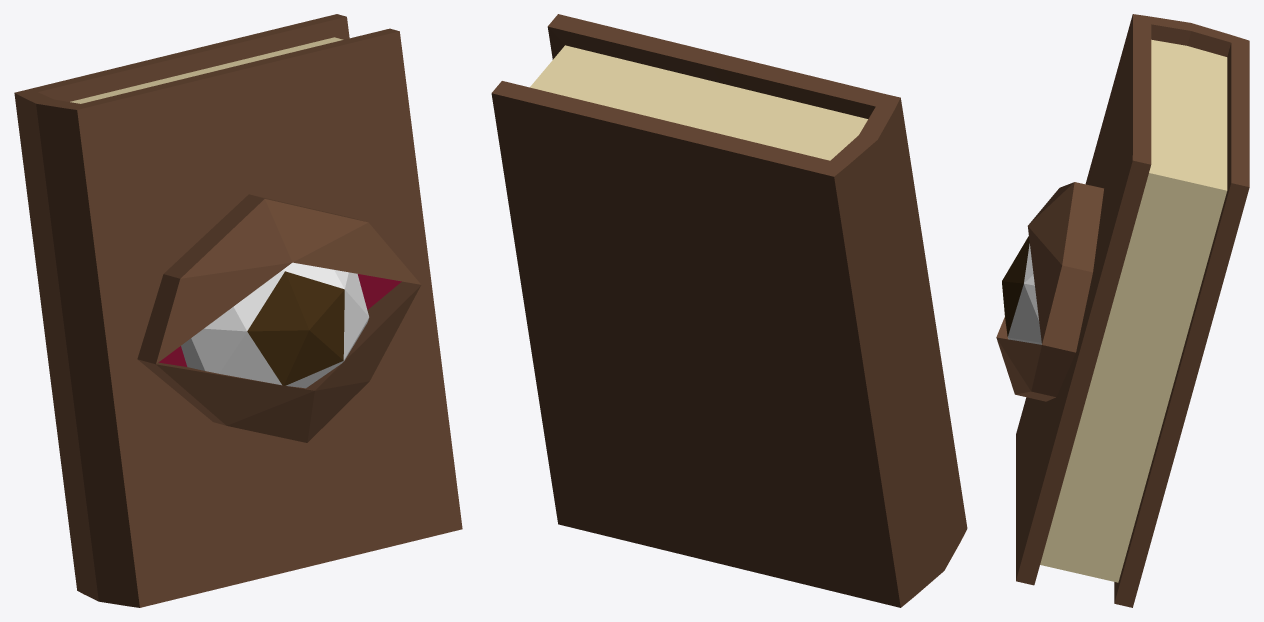
File: BookOfTheDed.fbx
The picture shows the model from 3 angles, left to right: view 1: azimuth 30°, elevation 25°; view 2: azimuth 150°, elevation 25°; view 3: azimuth 270°, elevation 25°; orthographic projection. The views are drawn at different scales.
Visible parts, largest first — view 1: Cube.001; view 2: Cube.001; view 3: Cube.001.
Boxes of the visible parts, x1,y1,x2,y2 form: Cube.001: (14, 14, 462, 607); Cube.001: (491, 14, 967, 607); Cube.001: (996, 14, 1249, 607).
Bounding box in the file's own units: 128 × 177 × 91.07.
